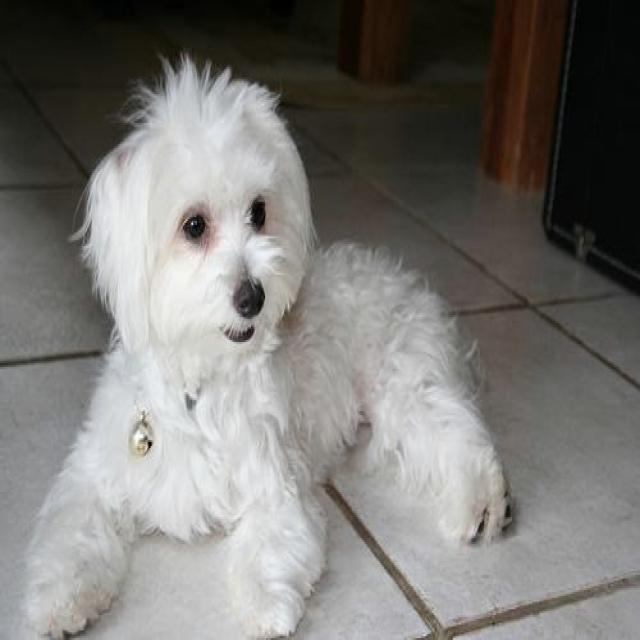maltese_dog: (18, 54, 507, 638)
